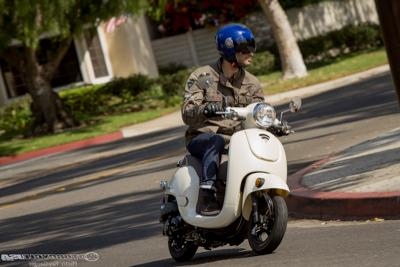With Helmet: (211, 23, 262, 69)
